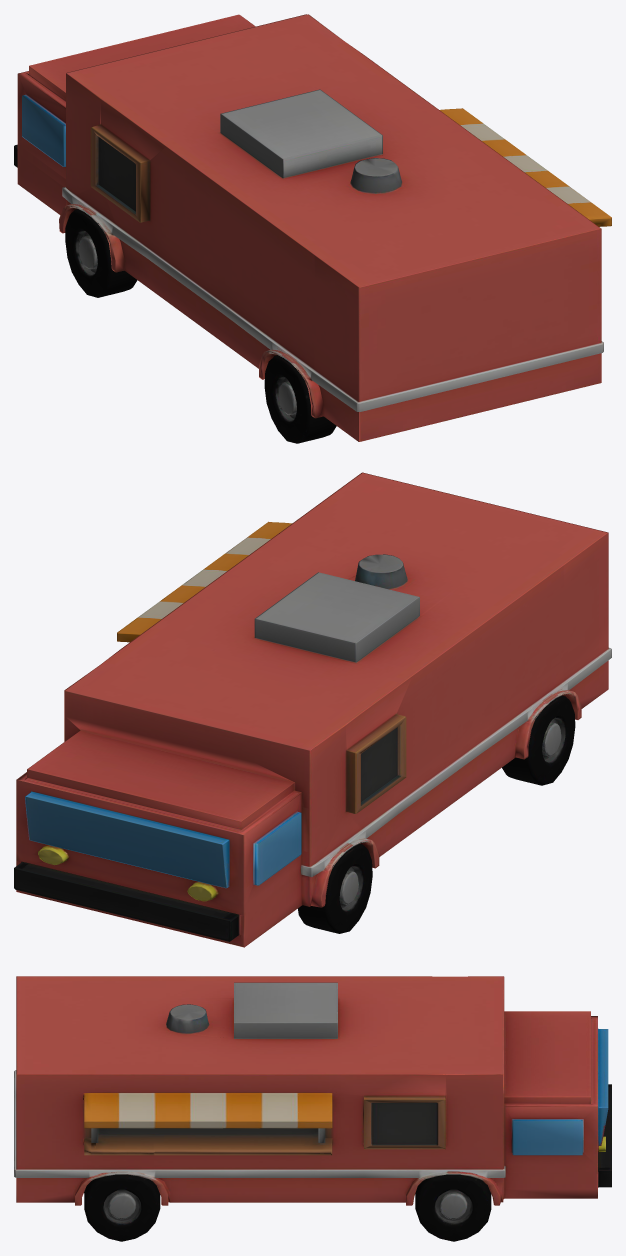
File: food-truck-proportioned.glb
The picture shows the model from 3 angles, top to bottom: view 1: azimuth 30°, elevation 25°; view 2: azimuth 150°, elevation 25°; view 3: azimuth 270°, elevation 25°; orthographic projection. The views are drawn at different scales.
Parts seen in each view (by area): view 1: tripo_node_d1e9b696-7db8-4430-9c2a-7927ec78d428; view 2: tripo_node_d1e9b696-7db8-4430-9c2a-7927ec78d428; view 3: tripo_node_d1e9b696-7db8-4430-9c2a-7927ec78d428.
Part boxes in pixels (x1,y1,x2,y2): tripo_node_d1e9b696-7db8-4430-9c2a-7927ec78d428: (14, 14, 611, 443); tripo_node_d1e9b696-7db8-4430-9c2a-7927ec78d428: (14, 472, 611, 947); tripo_node_d1e9b696-7db8-4430-9c2a-7927ec78d428: (14, 976, 611, 1241).
Size of the model in its own units: 0.4892 by 0.3323 by 1.
1 material, 1 textured.
